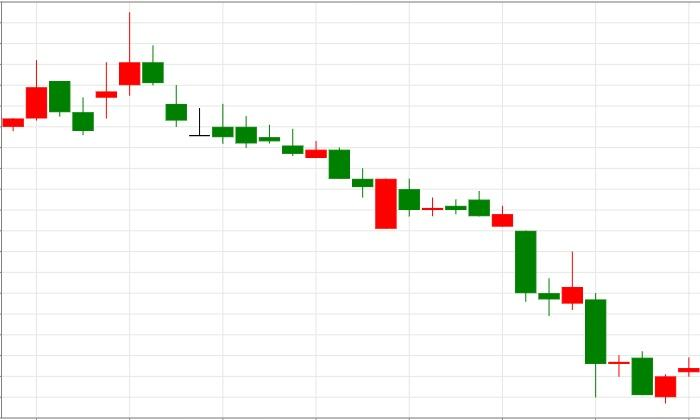shooting_star_fall: (72, 13, 142, 136)
